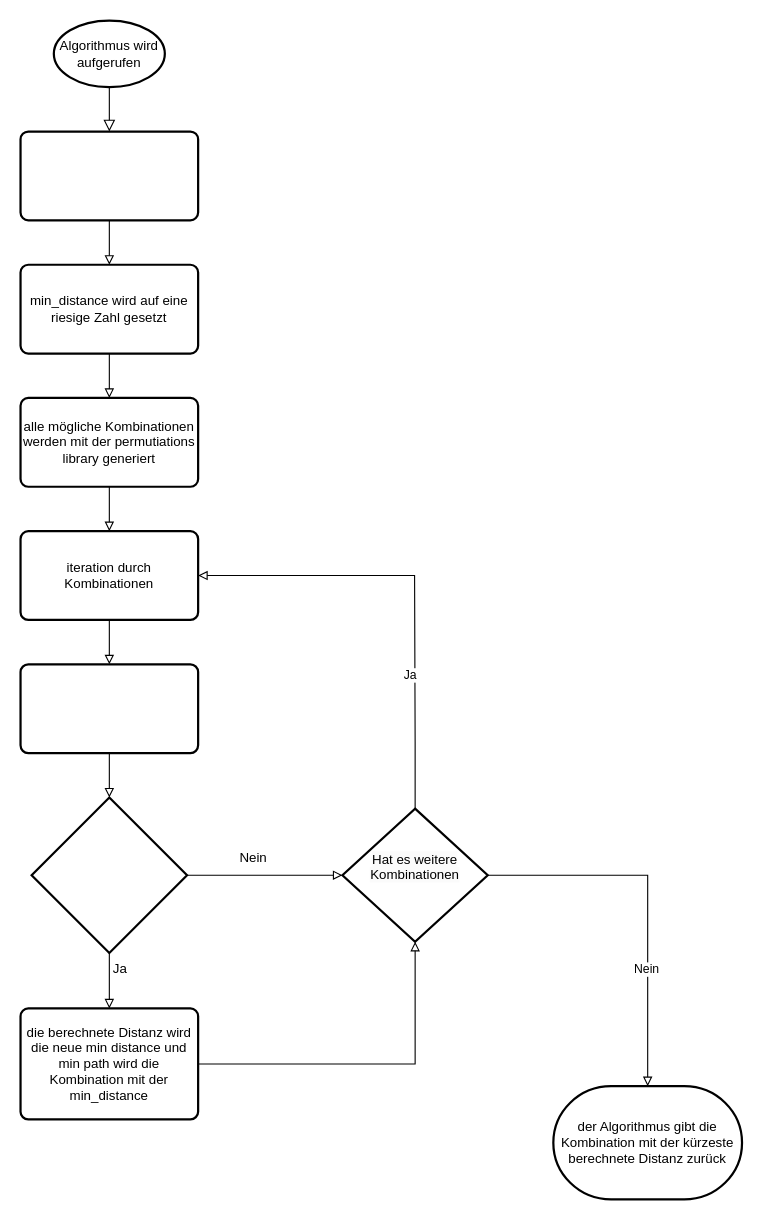
Image size: 761x1219. Some labels were removed from this diagram. Here are the shapes that lost their labels. From the top down, the box of each, then its label:
(19, 130, 199, 221): die x- und y-Koordinaten von den Städte werden in distances zwischen gespeichert
(19, 663, 199, 754): die Distanz von der Kombination wird mit einer iteration berechnet
(30, 796, 188, 953): ist die Berechnete Distanz kleiner als min_distance
